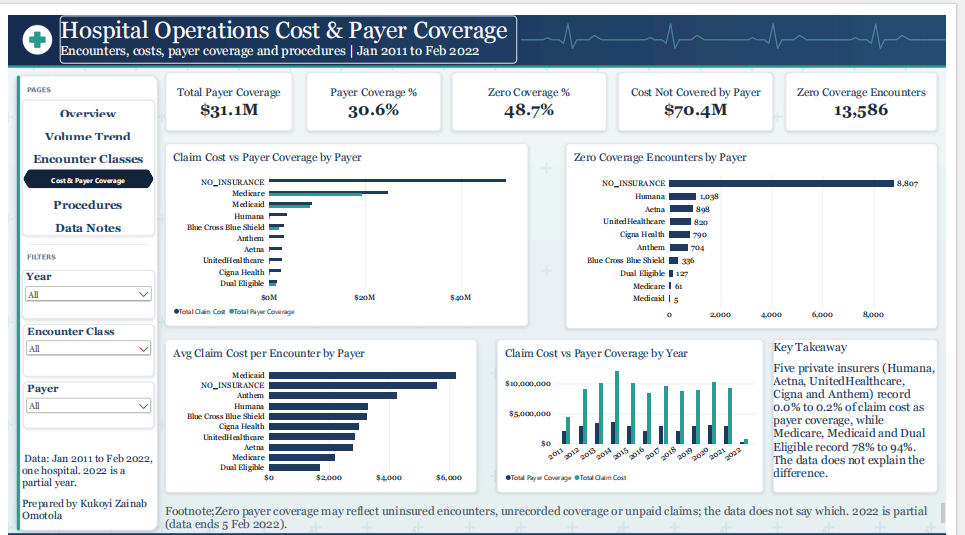

Layout of this report page (visuals, bound fields, positions):
{"tool":"powerbi","page":{"name":"Cost & Payer Coverage","canvas":[1920,1080],"ordinal":3},"visuals":[{"type":"textbox","box":[104.6,0,937.3,97.8],"z":0},{"type":"slicer","fields":{"Values":["DateTable.Year"]},"box":[28.5,522.1,270.6,99.7],"z":1000},{"type":"slicer","fields":{"Values":["payers.NAME"]},"box":[29.6,750.7,268.2,94.9],"z":2000},{"type":"cardVisual","fields":{"Data":["_Measures.Total Payer Coverage"]},"box":[320.8,116,261.6,120.6],"z":3000},{"type":"cardVisual","fields":{"Data":["_Measures.Cost Not Covered by Payer"]},"box":[1248.9,116,318.5,120.6],"z":4000},{"type":"barChart","title":"Avg Claim Cost per Encounter by Payer","fields":{"Category":["payers.NAME"],"Y":["_Measures.Avg Claim Cost per Encounter"]},"box":[320.8,664.3,639.2,313.9],"z":5000},{"type":"barChart","title":"Zero Coverage Encounters by Payer","fields":{"Category":["payers.NAME"],"Y":["_Measures.Zero Coverage Encounters"]},"box":[1142,261.6,762.1,379.9],"z":6000},{"type":"clusteredBarChart","title":"Claim Cost vs Payer Coverage by Payer","fields":{"Category":["payers.NAME"],"Y":["_Measures.Total Claim Cost","_Measures.Total Payer Coverage"]},"box":[320.8,261.6,743.9,375.4],"z":7000},{"type":"textbox","box":[320.8,1000.9,1599.2,52.3],"z":8000},{"type":"textbox","box":[28.5,894.7,270.6,159],"z":9000},{"type":"pageNavigator","box":[28.5,173.3,270.6,277.7],"z":10000},{"type":"cardVisual","fields":{"Data":["_Measures.Payer Coverage %"]},"box":[609.7,116,277.5,120.6],"z":11000},{"type":"clusteredColumnChart","title":"Claim Cost vs Payer Coverage by Year","fields":{"Category":["DateTable.Year"],"Y":["_Measures.Total Payer Coverage","_Measures.Total Claim Cost"]},"box":[1000.9,664.3,546,313.9],"z":12000},{"type":"cardVisual","fields":{"Data":["_Measures.Zero Coverage Encounters"]},"box":[1592.4,116,311.7,120.6],"z":13000},{"type":"cardVisual","fields":{"Data":["_Measures.Zero Coverage %"]},"box":[907.7,116,318.5,120.6],"z":14000},{"type":"slicer","fields":{"Values":["encounters.ENCOUNTERCLASS"]},"box":[29.6,632.9,268.2,106.8],"z":15000},{"type":"textbox","title":"Key Takeaway","box":[1567.4,664.3,336.7,313.9],"z":16000}]}

Visuals, with their boxes in screenshot pixels (x1, y1, x2, y2), scaled from the page's 1920x1080 canvas onto the 965x535 screenshot:
textbox: 53 0 524 48
slicer - DateTable.Year: 14 259 150 308
slicer - payers.NAME: 15 372 150 419
cardVisual - _Measures.Total Payer Coverage: 161 57 293 117
cardVisual - _Measures.Cost Not Covered by Payer: 628 57 788 117
"Avg Claim Cost per Encounter by Payer" barChart: 161 329 482 485
"Zero Coverage Encounters by Payer" barChart: 574 130 957 318
"Claim Cost vs Payer Coverage by Payer" clusteredBarChart: 161 130 535 316
textbox: 161 496 964 522
textbox: 14 443 150 522
pageNavigator: 14 86 150 223
cardVisual - _Measures.Payer Coverage %: 306 57 446 117
"Claim Cost vs Payer Coverage by Year" clusteredColumnChart: 503 329 777 485
cardVisual - _Measures.Zero Coverage Encounters: 800 57 957 117
cardVisual - _Measures.Zero Coverage %: 456 57 616 117
slicer - encounters.ENCOUNTERCLASS: 15 314 150 366
"Key Takeaway" textbox: 788 329 957 485
